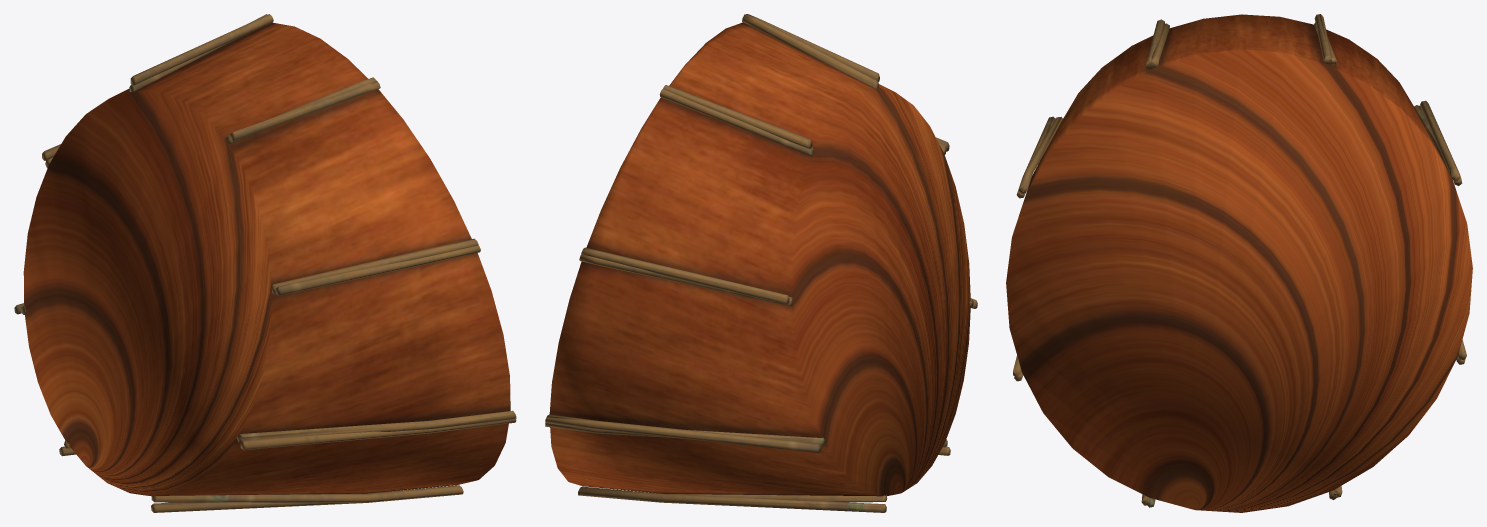
File: Gendang_Terputus4.fbx
The picture shows the model from 3 angles, left to right: view 1: azimuth 30°, elevation 25°; view 2: azimuth 150°, elevation 25°; view 3: azimuth 270°, elevation 25°; orthographic projection. The views are drawn at different scales.
Parts seen in each view (by area): view 1: Cylinder_Gendang_0.004; view 2: Cylinder_Gendang_0.004; view 3: Cylinder_Gendang_0.004.
Part boxes in pixels (box(x1,y1,x2,y2)): Cylinder_Gendang_0.004: box(14, 14, 516, 512); Cylinder_Gendang_0.004: box(545, 14, 977, 512); Cylinder_Gendang_0.004: box(1006, 14, 1472, 512).
Size of the model in its own units: 764 by 1055 by 1055.
Materials: 1 (1 with a texture image).
